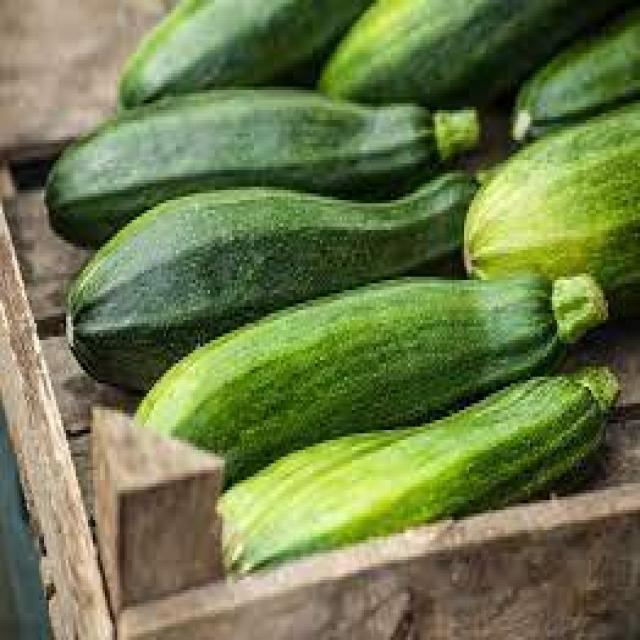Zucchini: (62, 85, 470, 195)
